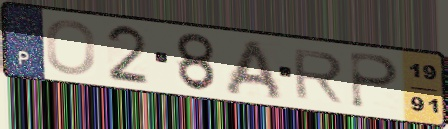2: (103, 23, 153, 87)
8: (174, 31, 217, 93)
A: (221, 37, 286, 102)
O: (44, 18, 98, 77)
P: (348, 50, 402, 112)
R: (290, 47, 346, 105)
